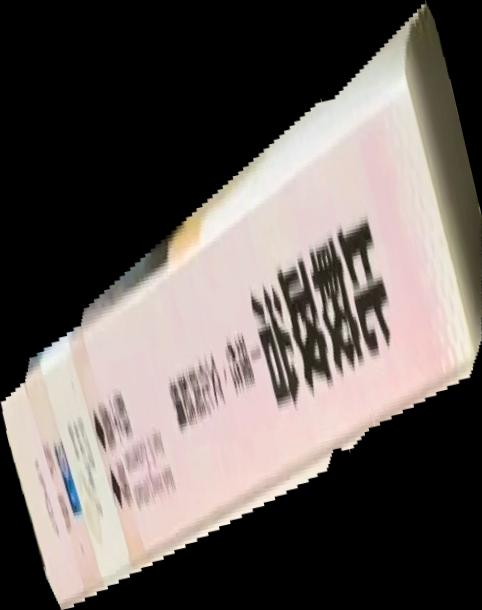flat: (1, 1, 482, 610)
